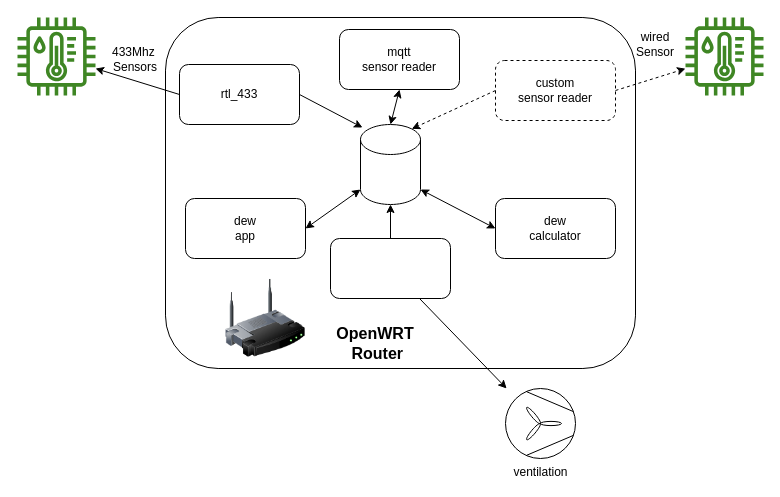
The diagram is 780 pixels wide and 497 high, and some of its shapes have lost their labels. The box of each missing label's shape, as (x1, y1, x2, y2) in pixels:
dew control: (330, 238, 450, 298)
mqtt broker: (360, 124, 420, 204)
